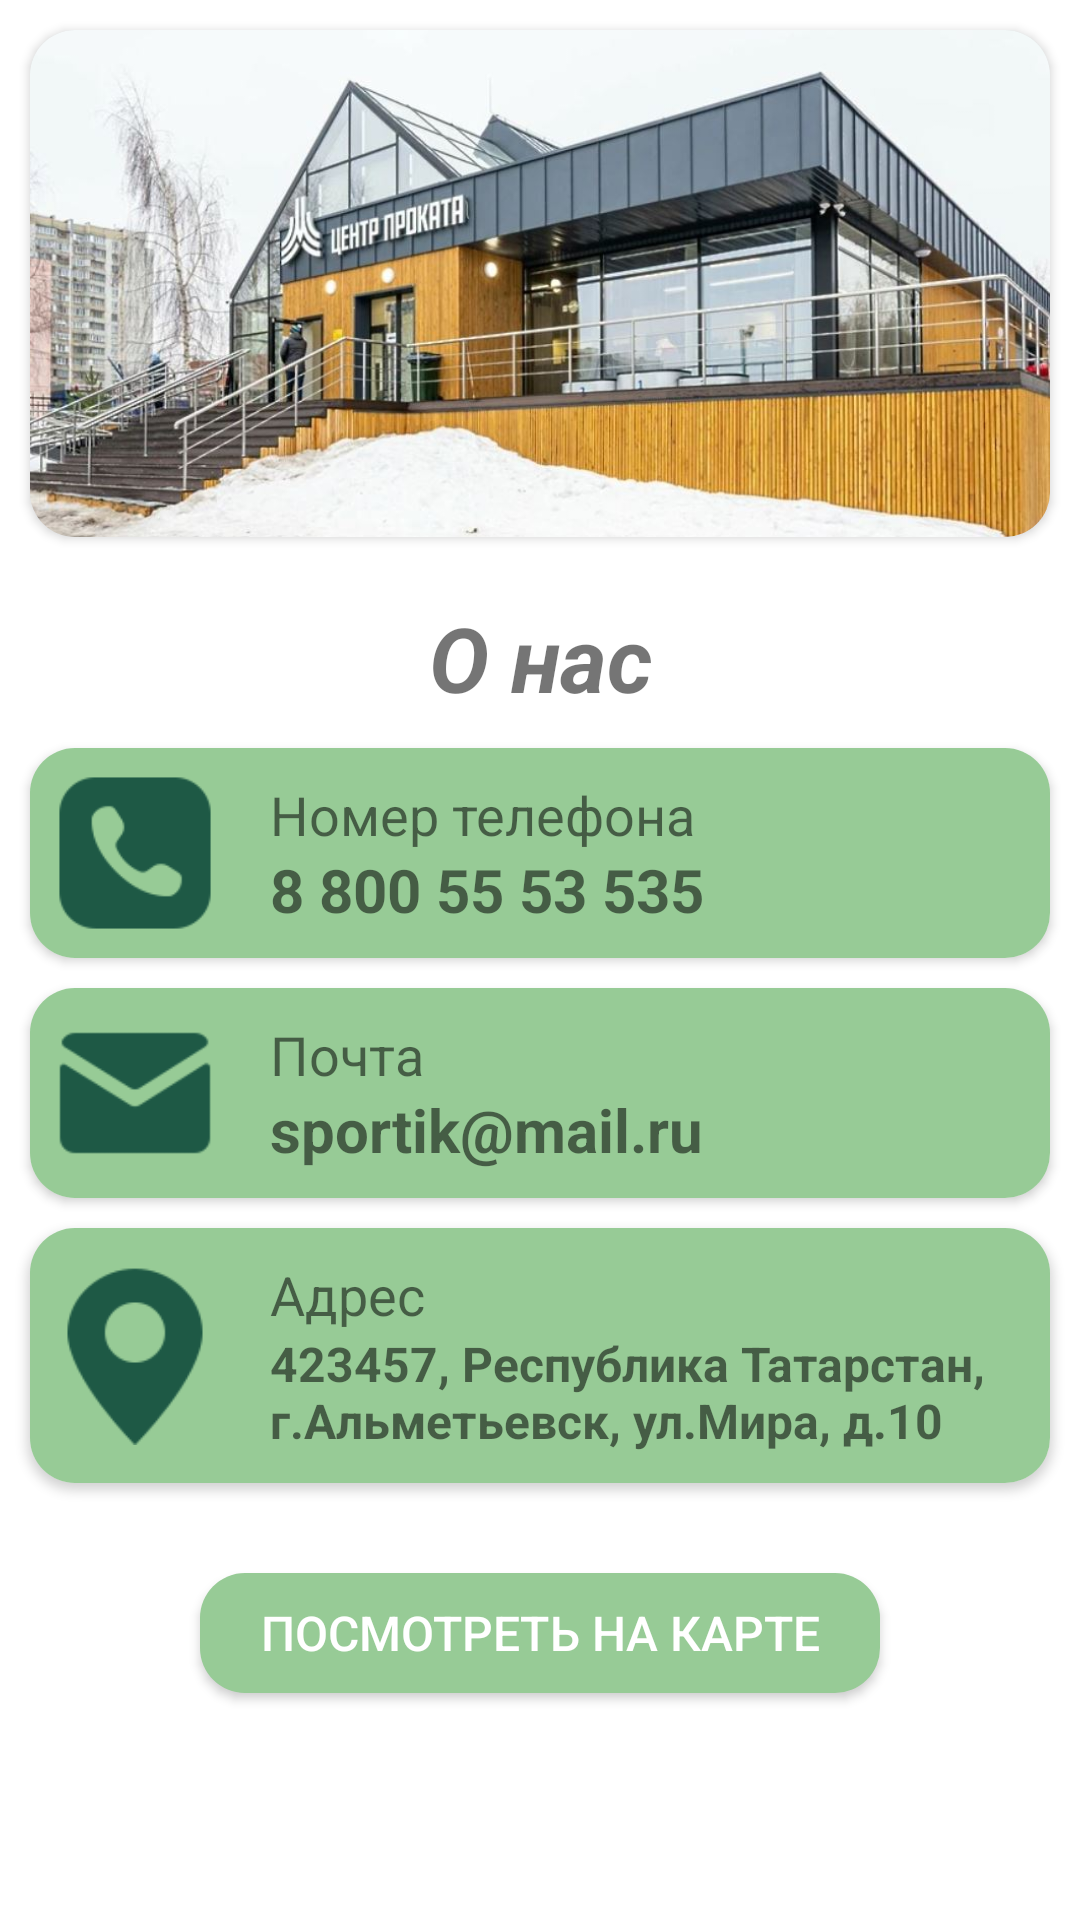

Named icons in this screenshot (1080px×1920px) and their bounding boxes, (x1, y1, x2, y2):
location: (67, 1268, 203, 1445)
phone: (59, 777, 211, 929)
